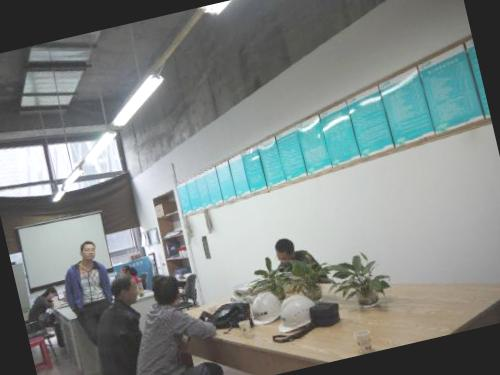no_helmet: (144, 266, 187, 317), (105, 267, 141, 308), (268, 232, 298, 265), (76, 235, 100, 264), (38, 282, 61, 303)
